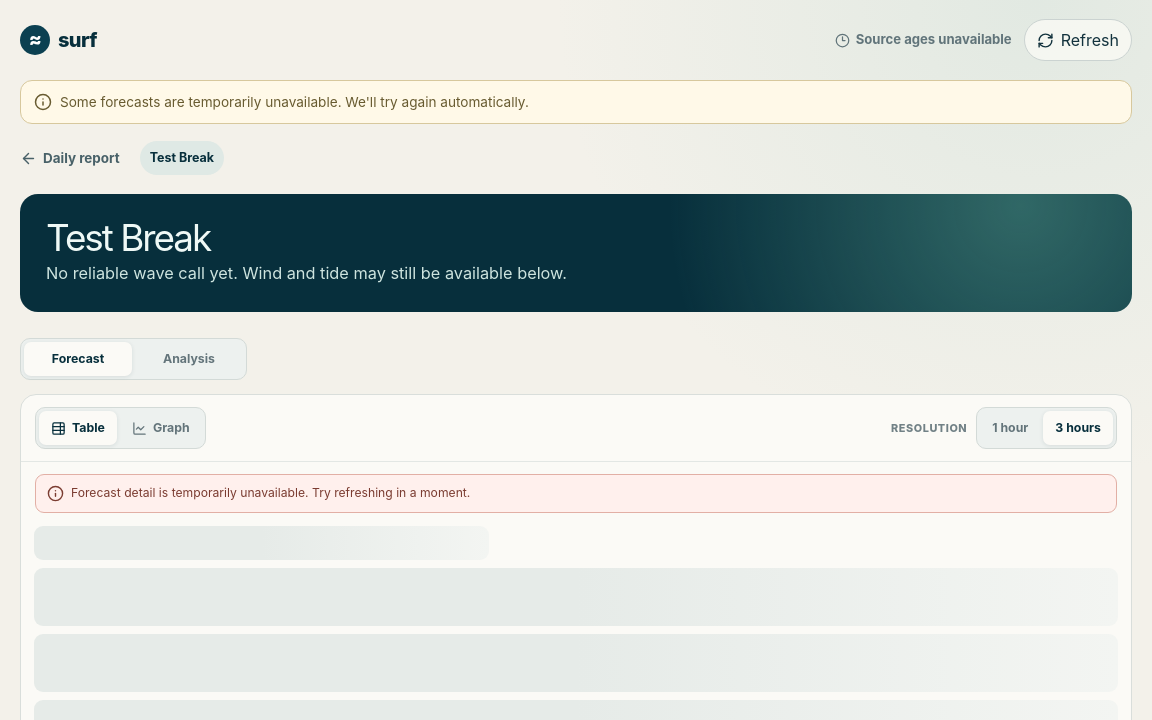
App › does not clear a catalog-refresh warning when a forecast retry recovers
Expected: the text "Some forecasts are temporarily unavailable. We'll try again automatically." is shown, x1=20 y1=80 x2=1132 y2=124
Click the button "Refresh". click: click(1078, 40)
box: x1=1024 y1=19 x2=1132 y2=61
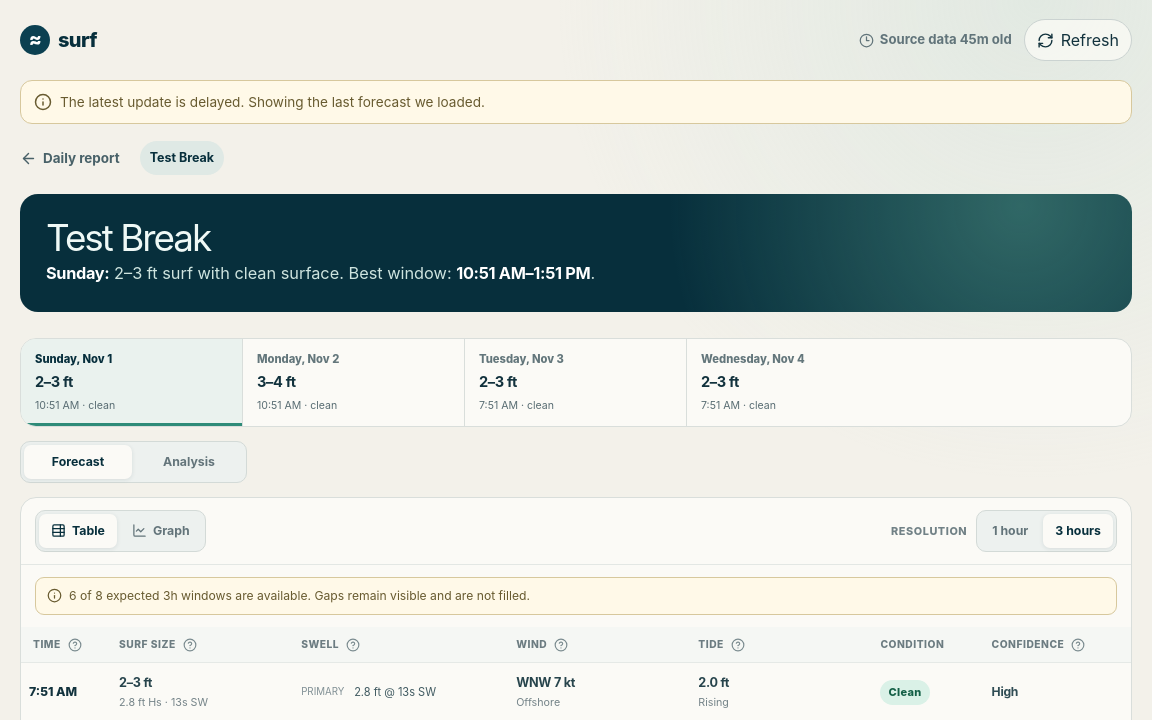
Expected: the element with class "spotCall" shows "surf with", x1=158 y1=263 x2=234 y2=283
Expected: the text "The latest update is delayed. Showing the last forecast we loaded." is shown, x1=20 y1=80 x2=1132 y2=124
